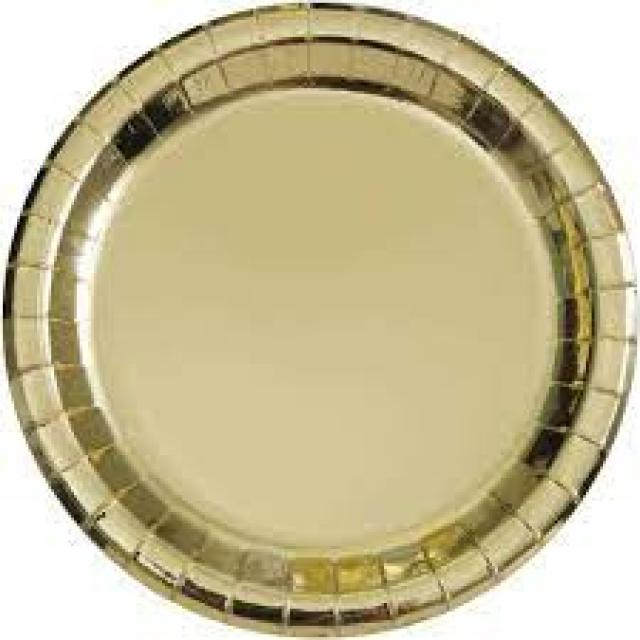Paper -Biodegradable-: (0, 1, 638, 640)
